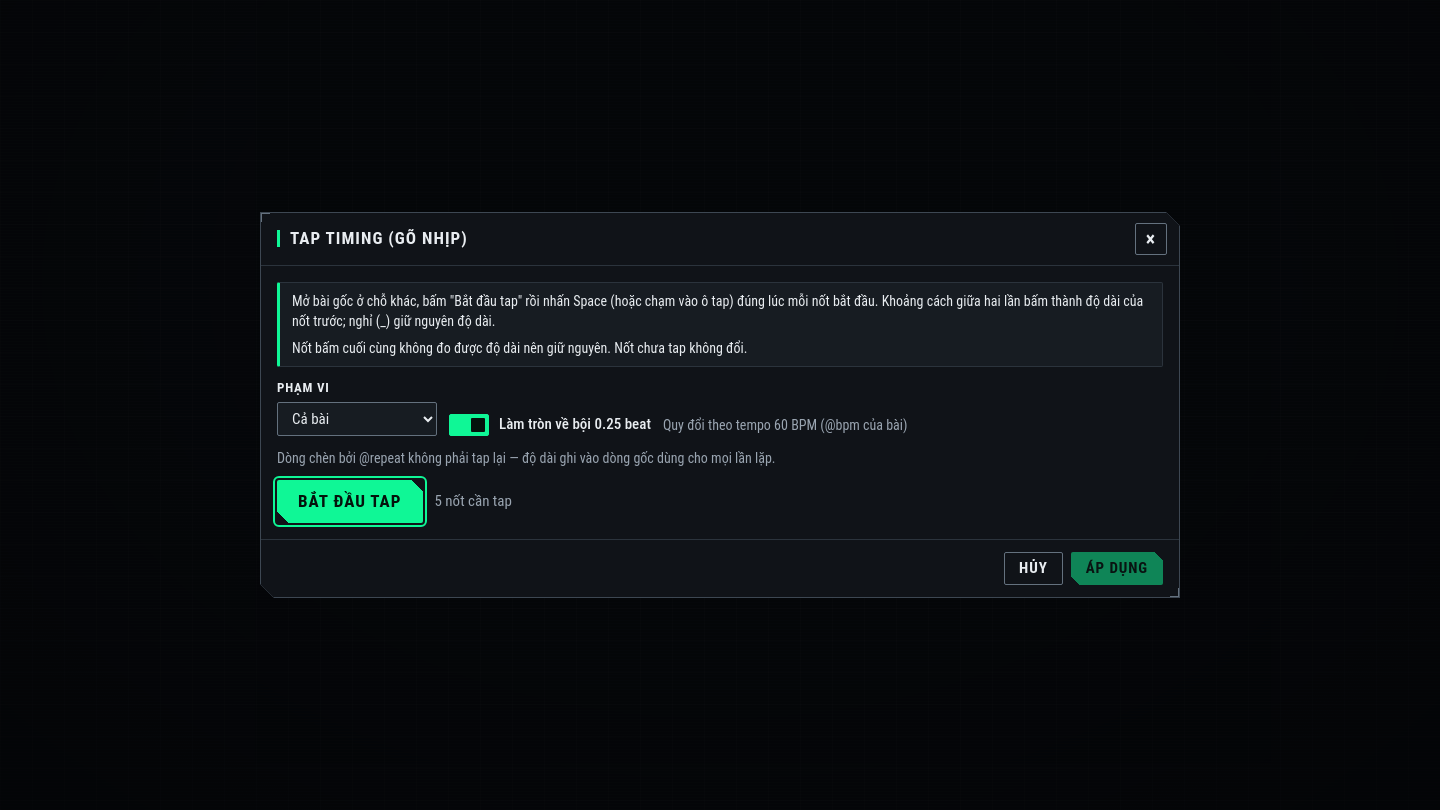
Test: TapTimingModal › restart clears every tap and keeps the tapping step
Click the button "Bắt đầu tap" at (350, 502), box [277, 480, 422, 523]
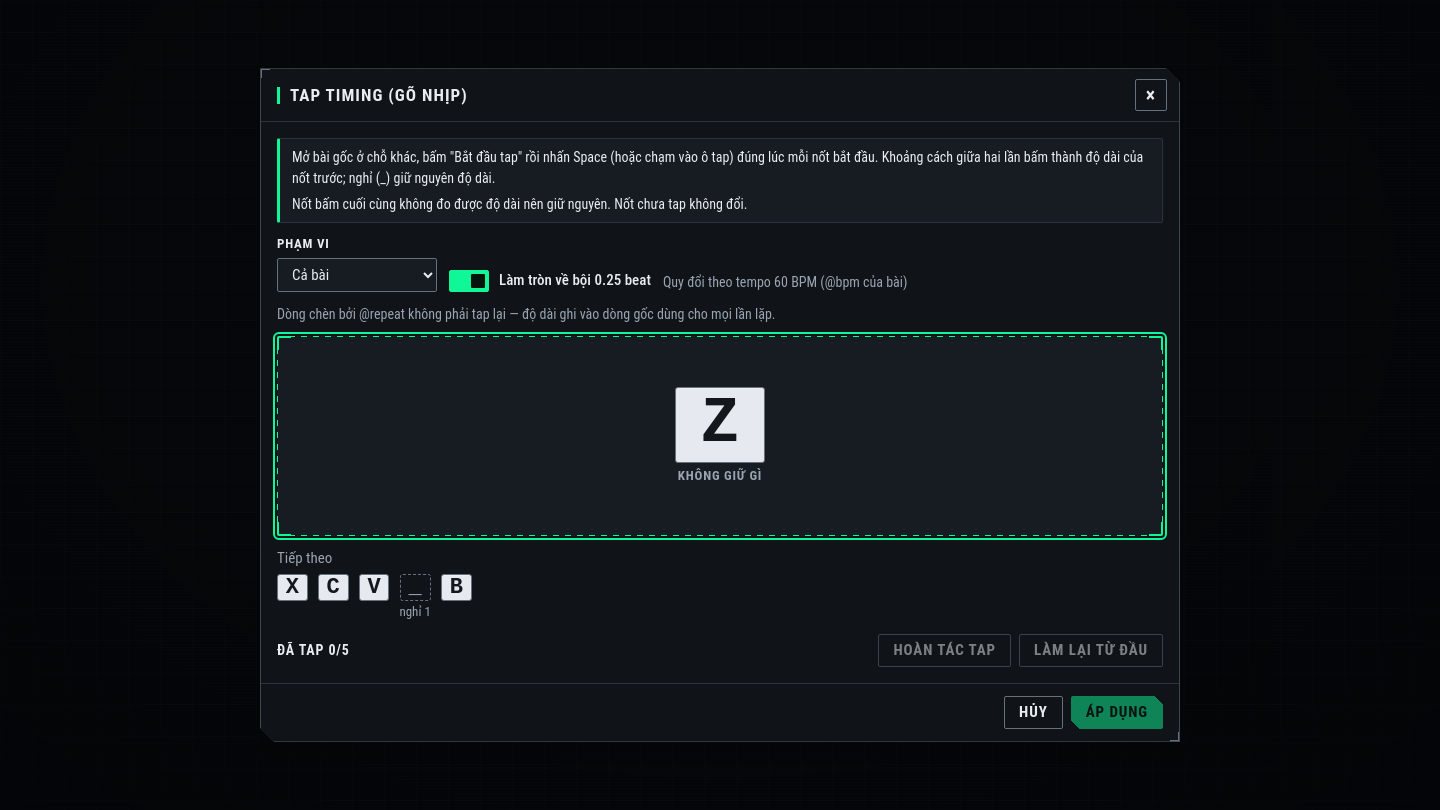
Press Space in the button with aria-label "Ô tap", box [277, 336, 1163, 536]
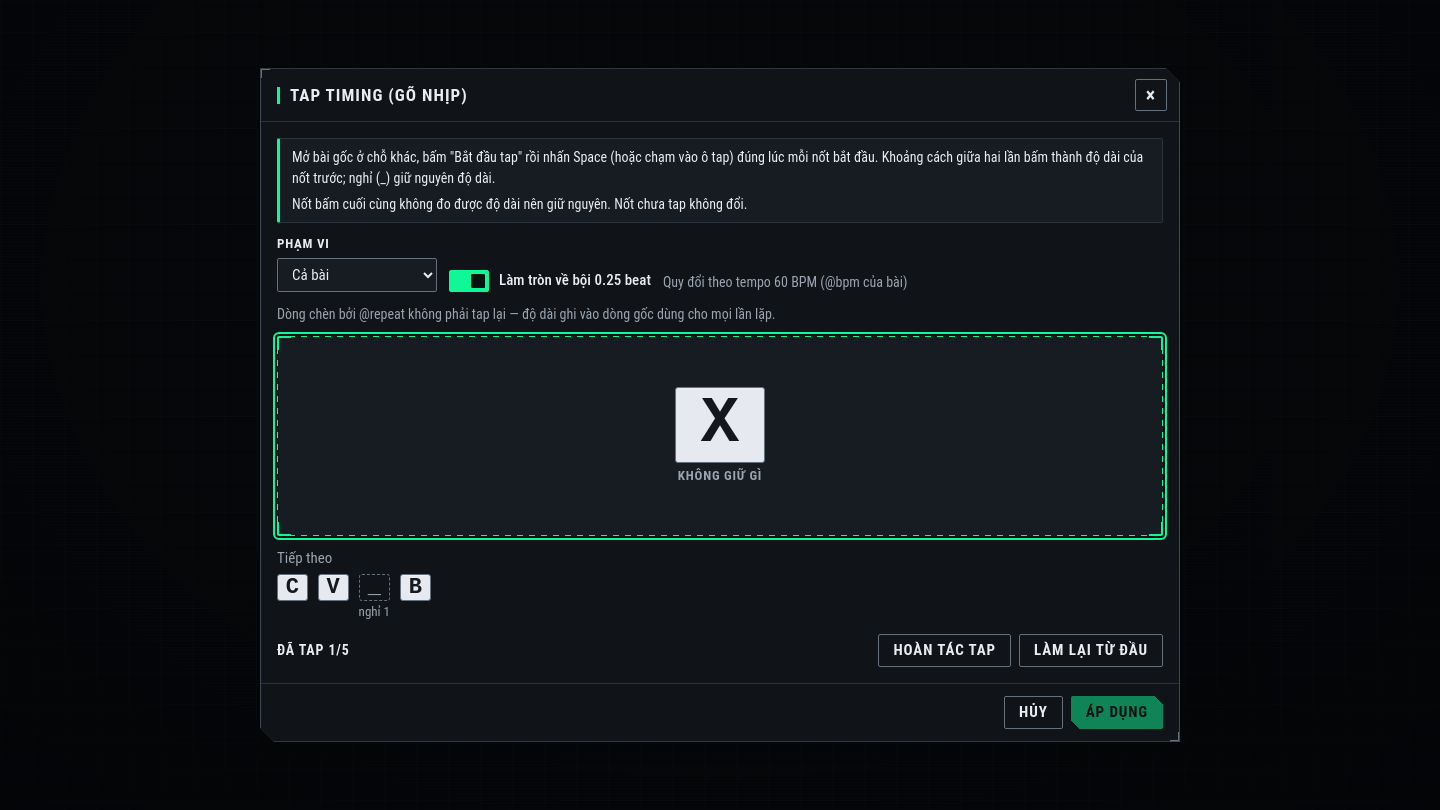
Press Space in the button with aria-label "Ô tap", box [277, 336, 1163, 536]
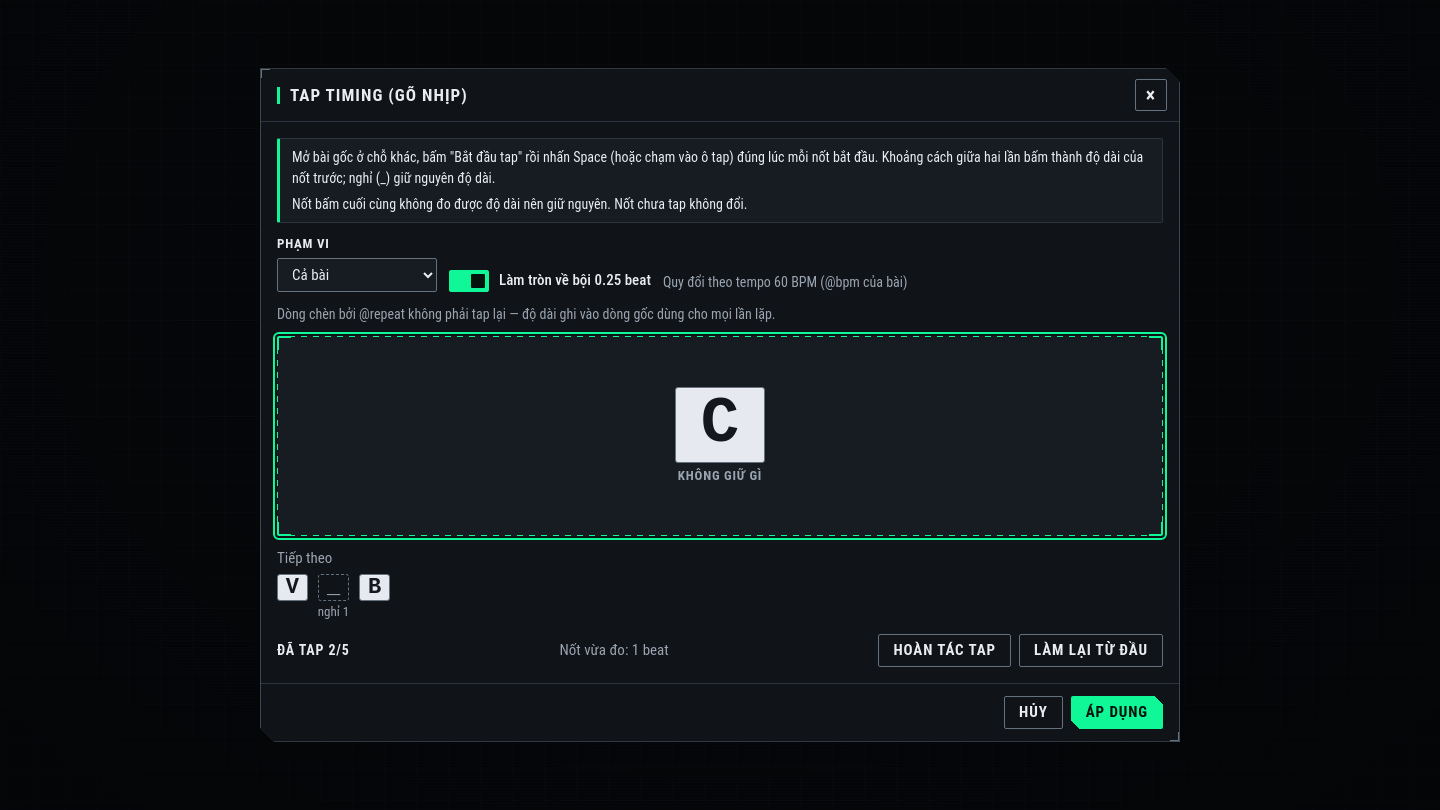
Click the button "Làm lại từ đầu" at (1091, 651), box [1019, 634, 1163, 667]
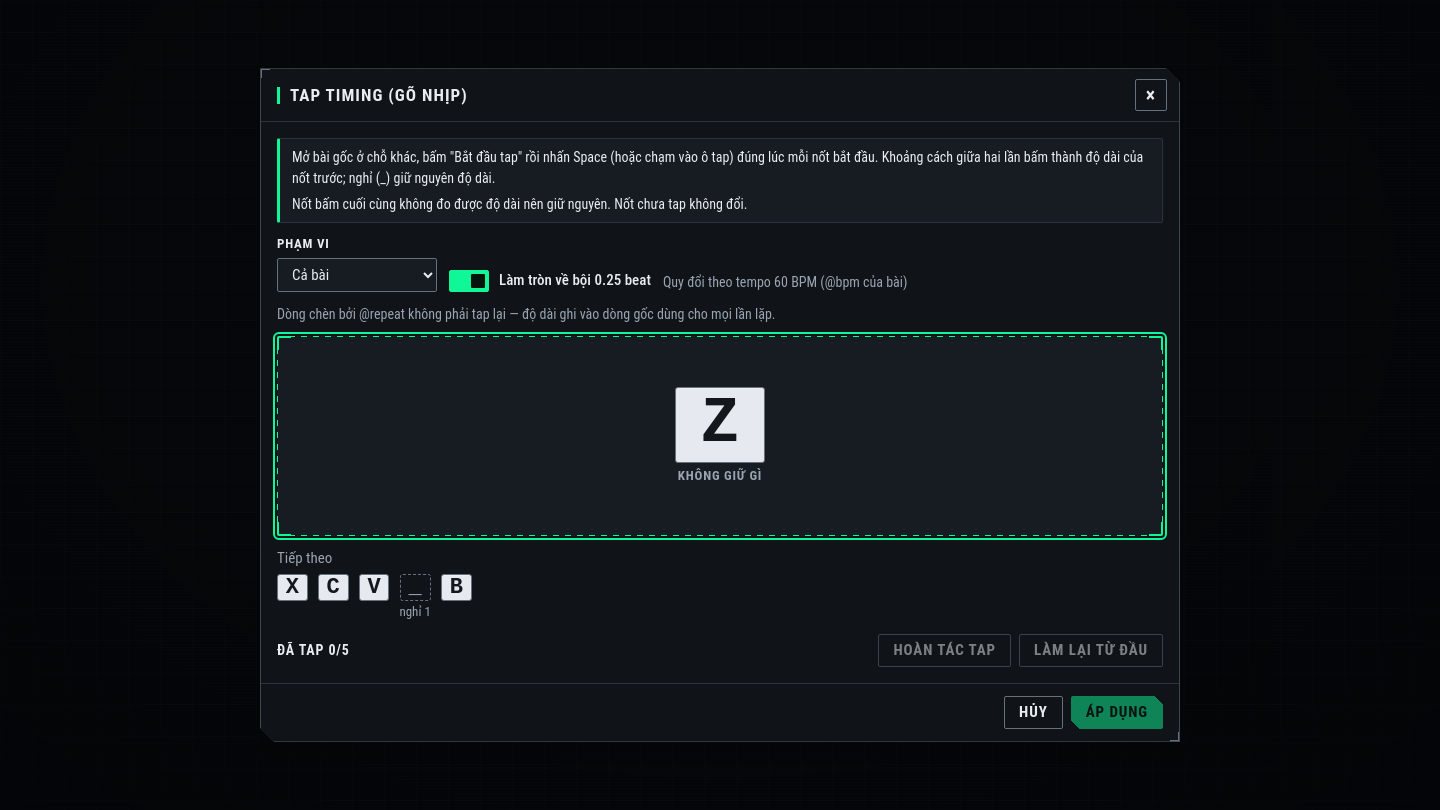
Expected: the text "Đã tap 0/5" is shown, [277, 640, 350, 661]
Expected: the button "Áp dụng" is disabled, [1071, 696, 1163, 729]
